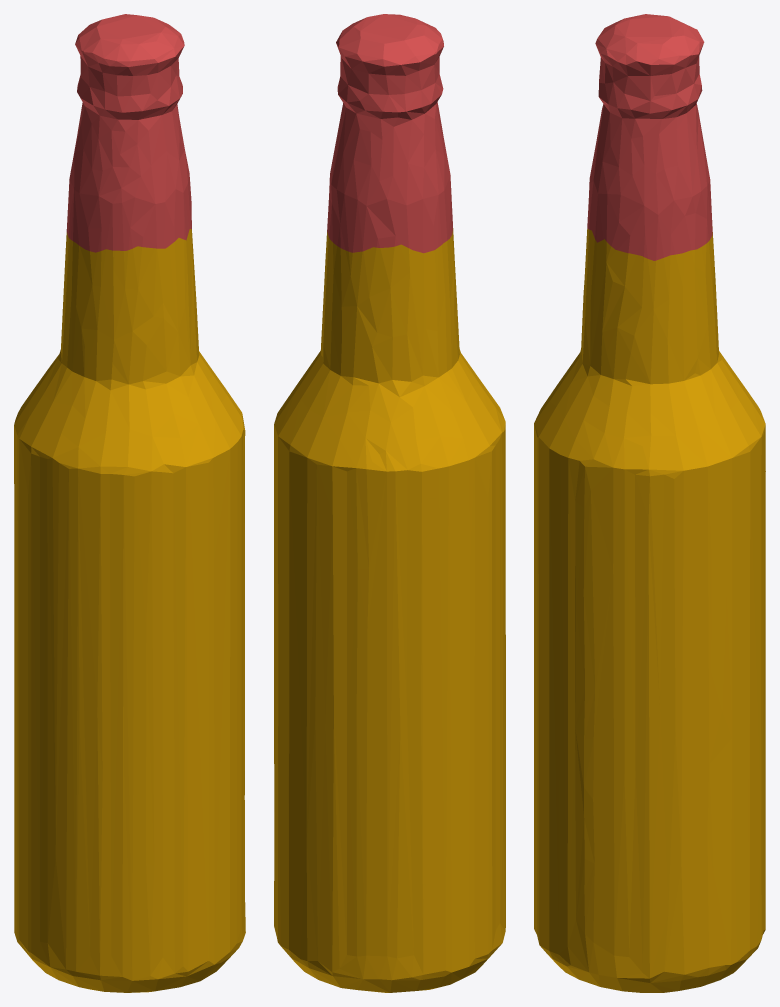
File: fractured_38_2pcs.glb
3 views of the same model, side by side, from view 1: azimuth 30°, elevation 25°; view 2: azimuth 150°, elevation 25°; view 3: azimuth 270°, elevation 25° (orthographic).
Parts seen in each view (by area): view 1: piece_0.obj, piece_1.obj; view 2: piece_0.obj, piece_1.obj; view 3: piece_0.obj, piece_1.obj.
Boxes of the visible parts, bbox=[...] form: piece_0.obj: bbox=[14, 229, 245, 992]; piece_1.obj: bbox=[66, 14, 191, 252]; piece_0.obj: bbox=[274, 228, 505, 992]; piece_1.obj: bbox=[327, 14, 452, 253]; piece_0.obj: bbox=[534, 226, 765, 992]; piece_1.obj: bbox=[587, 14, 712, 260].
Size of the model in its own units: 0.2267 by 1 by 0.2267.
